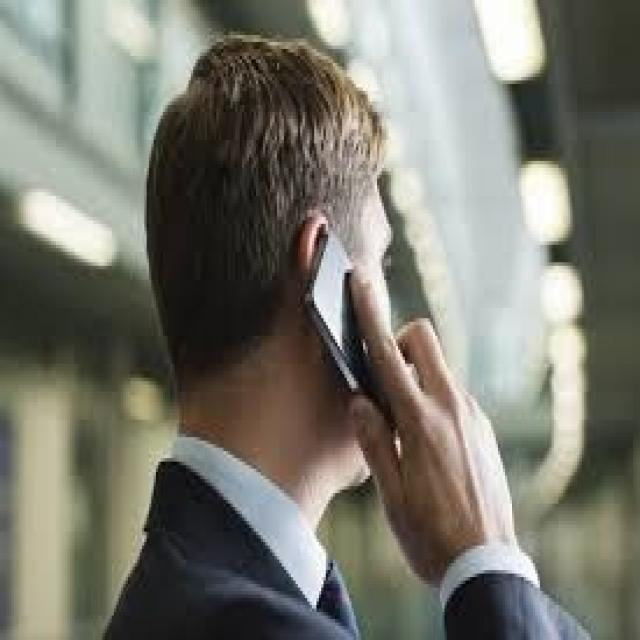phone: (286, 196, 519, 549)
